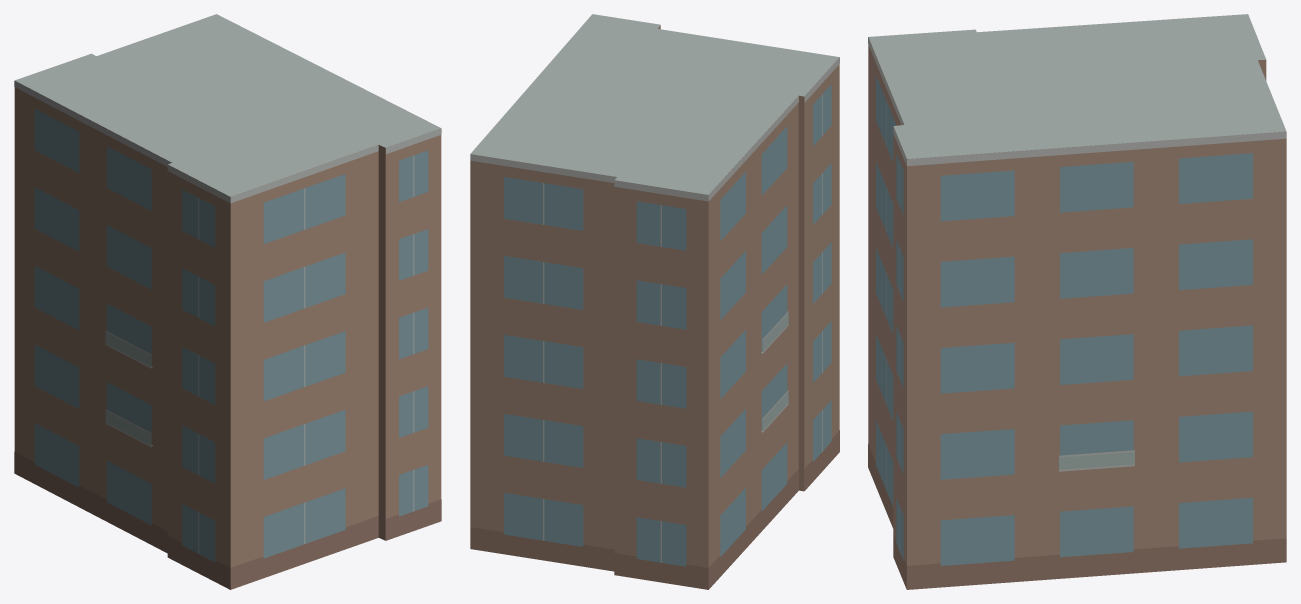
Rendered from survey-upis-32979175.glb.
The picture shows the model from 3 angles, left to right: view 1: azimuth 30°, elevation 25°; view 2: azimuth 150°, elevation 25°; view 3: azimuth 270°, elevation 25°; orthographic projection. The views are drawn at different scales.
Visible parts, largest first — view 1: survey-upis-32979175.tmp; view 2: survey-upis-32979175.tmp; view 3: survey-upis-32979175.tmp.
Part boxes in pixels (bbox=[...]): survey-upis-32979175.tmp: bbox=[14, 14, 441, 589]; survey-upis-32979175.tmp: bbox=[470, 14, 839, 589]; survey-upis-32979175.tmp: bbox=[868, 14, 1286, 589].
Size of the model in its own units: 10.63 by 14.7 by 12.95.
